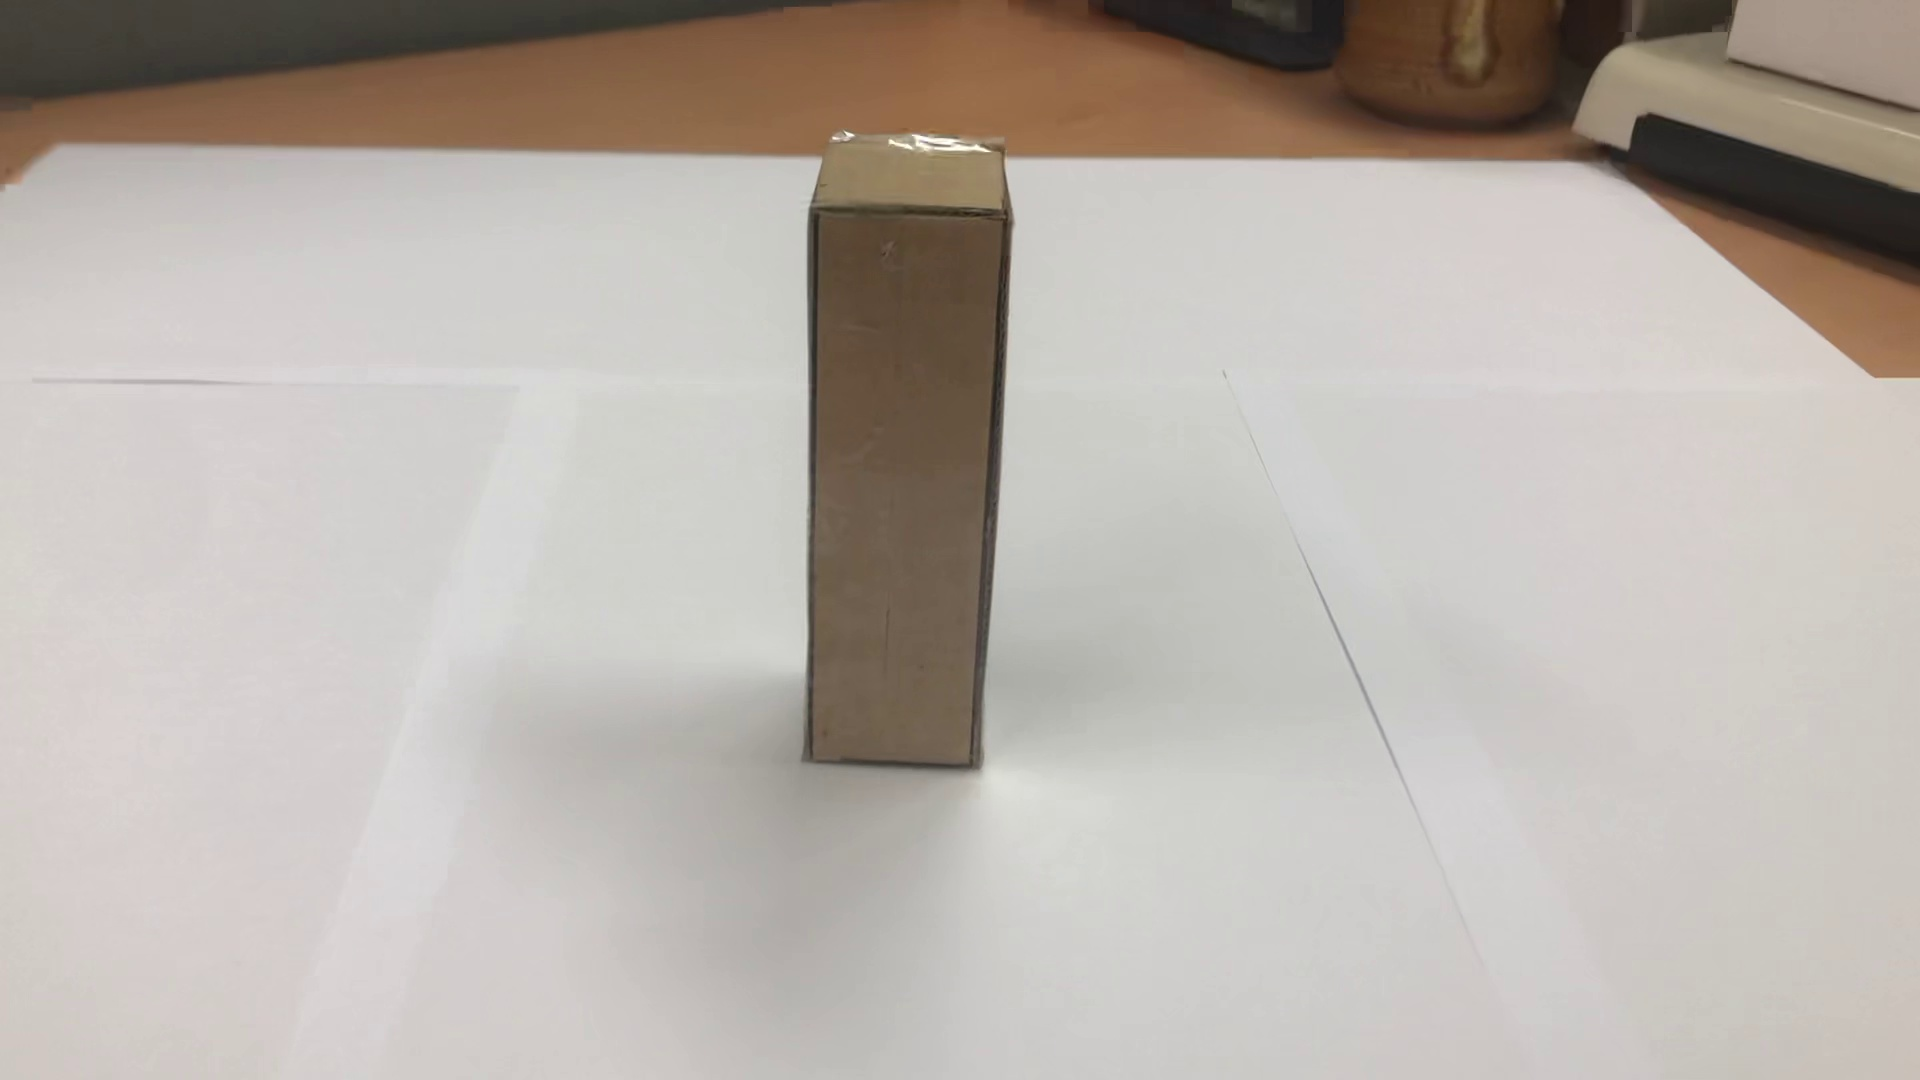box: (796, 135, 1026, 781)
